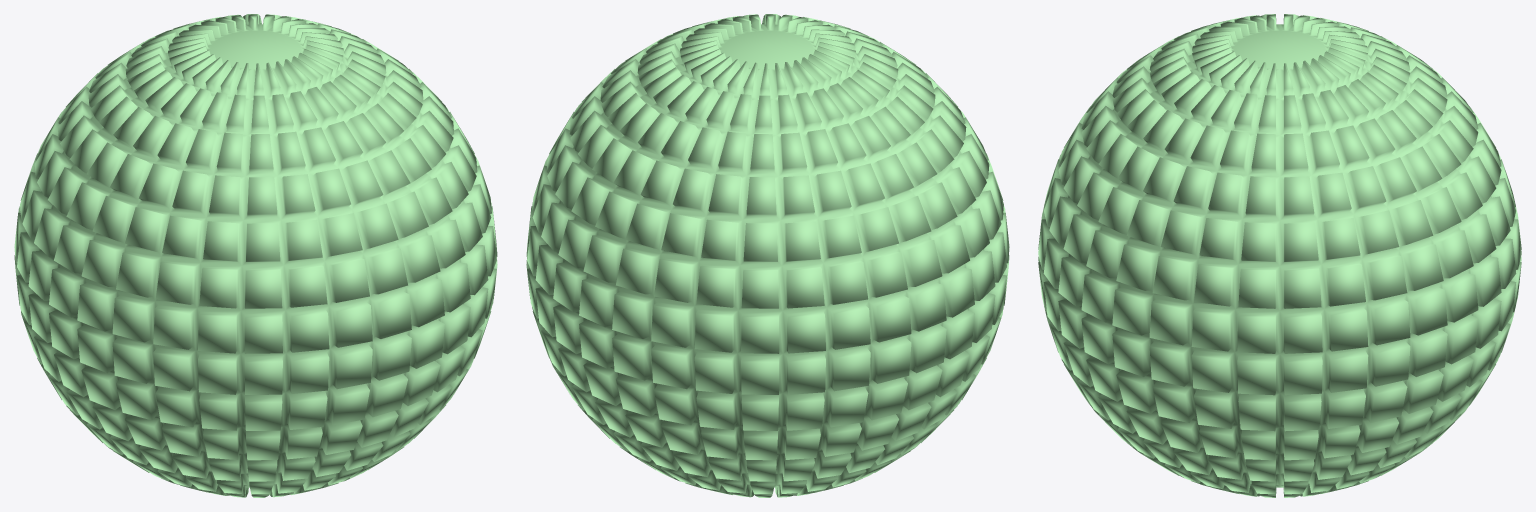
The model's file is light_13.glb.
The picture shows the model from 3 angles, left to right: view 1: azimuth 30°, elevation 25°; view 2: azimuth 150°, elevation 25°; view 3: azimuth 270°, elevation 25°; orthographic projection.
Parts seen in each view (by area): view 1: Sphere.048; view 2: Sphere.048; view 3: Sphere.048.
Boxes of the visible parts, <box> form: Sphere.048: <box>14,14,497,497</box>; Sphere.048: <box>526,14,1009,497</box>; Sphere.048: <box>1038,14,1521,497</box>.
Size of the model in its own units: 2.08 by 2.04 by 2.08.
